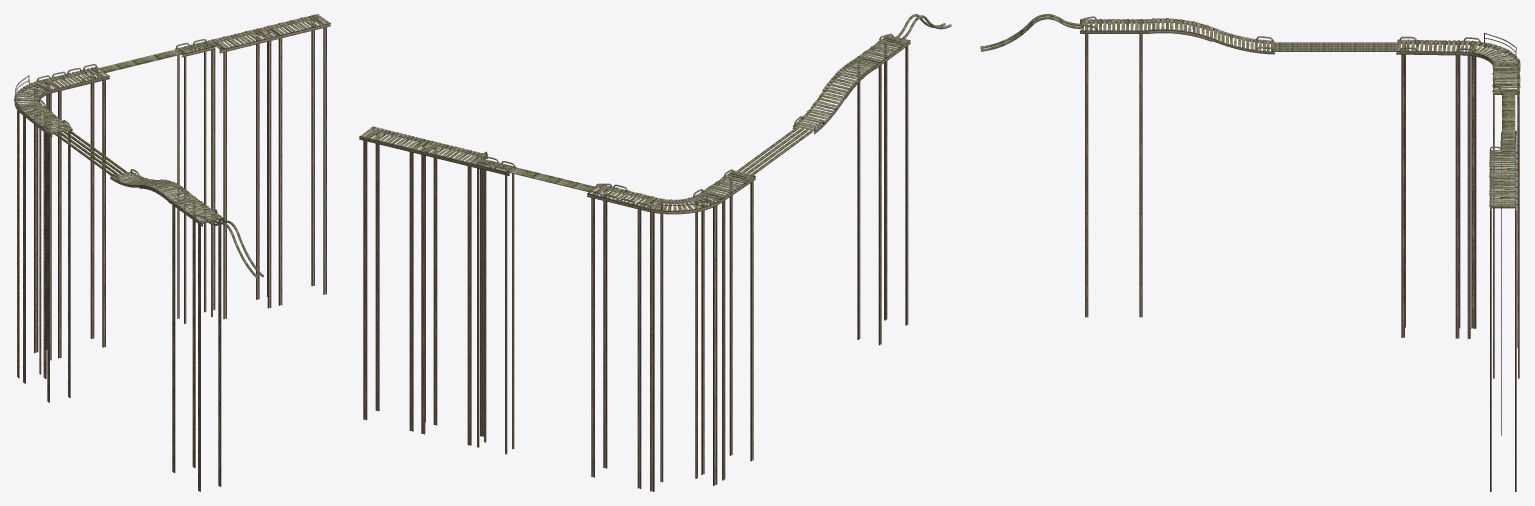
The picture shows the model from 3 angles, left to right: view 1: azimuth 30°, elevation 25°; view 2: azimuth 150°, elevation 25°; view 3: azimuth 270°, elevation 25°; orthographic projection. The views are drawn at different scales.
Parts seen in each view (by area): view 1: Ramp_001__16_, Ramp_001__11_, Ramp_001__10_, Ramp_001__15_, Ramp_001__9_, ramp_009__2_, Ramp_001__17_, Ramp_038__2_, ramp__1_, Ramp_002__1_; view 2: Ramp_001__16_, ramp_009__2_, Ramp_001__15_, Ramp_001__9_, Ramp_001__11_, Ramp_001__10_, Ramp_001__17_, Ramp_038__2_, Ramp_002__1_; view 3: Ramp_001__9_, ramp_009__2_, Ramp_001__11_, Ramp_001__15_, Ramp_001__10_, Ramp_038__2_, Ramp_001__16_, Ramp_002__1_, ramp__1_.
Boxes of the visible parts, x1,y1,x2,y2 form: Ramp_001__16_: [208, 27, 275, 319]; Ramp_001__11_: [170, 195, 223, 491]; Ramp_001__10_: [42, 66, 109, 358]; Ramp_001__15_: [263, 14, 330, 305]; Ramp_001__9_: [20, 105, 72, 402]; ramp_009__2_: [14, 80, 54, 378]; Ramp_001__17_: [175, 41, 215, 323]; Ramp_038__2_: [139, 179, 191, 202]; ramp__1_: [208, 219, 263, 278]; Ramp_002__1_: [110, 171, 158, 187]; Ramp_001__16_: [417, 140, 487, 445]; ramp_009__2_: [644, 194, 720, 491]; Ramp_001__15_: [359, 126, 429, 431]; Ramp_001__9_: [699, 170, 755, 480]; Ramp_001__11_: [855, 35, 910, 345]; Ramp_001__10_: [587, 185, 657, 488]; Ramp_001__17_: [474, 158, 516, 454]; Ramp_038__2_: [822, 59, 877, 99]; Ramp_002__1_: [792, 91, 845, 133]; Ramp_001__9_: [1396, 39, 1464, 338]; ramp_009__2_: [1464, 40, 1520, 347]; Ramp_001__11_: [1080, 19, 1147, 317]; Ramp_001__15_: [1489, 178, 1517, 491]; Ramp_001__10_: [1492, 65, 1520, 378]; Ramp_038__2_: [1147, 18, 1213, 41]; Ramp_001__16_: [1489, 150, 1517, 178]; Ramp_002__1_: [1212, 27, 1274, 54]; ramp__1_: [980, 14, 1080, 51].
Bounding box in the file's own units: 2923 × 2580 × 3974.
